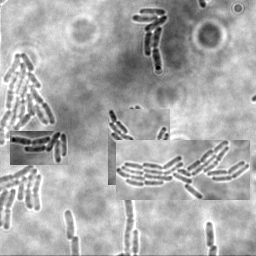Dividing: (114, 186, 133, 255), (204, 221, 215, 248)
Microcolony: (116, 140, 250, 200), (1, 51, 56, 147), (108, 109, 170, 185), (1, 162, 44, 231), (130, 8, 167, 72), (10, 131, 68, 165), (63, 208, 74, 240)
